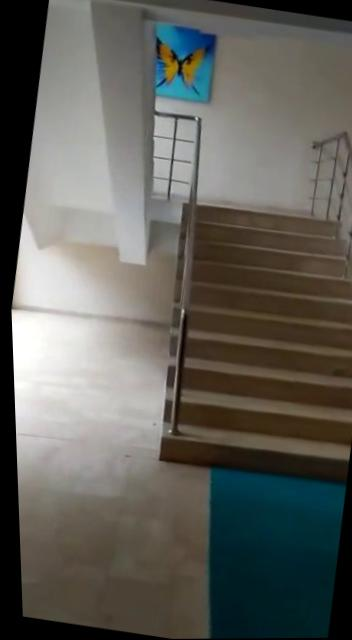Bench: (142, 200, 352, 491)
